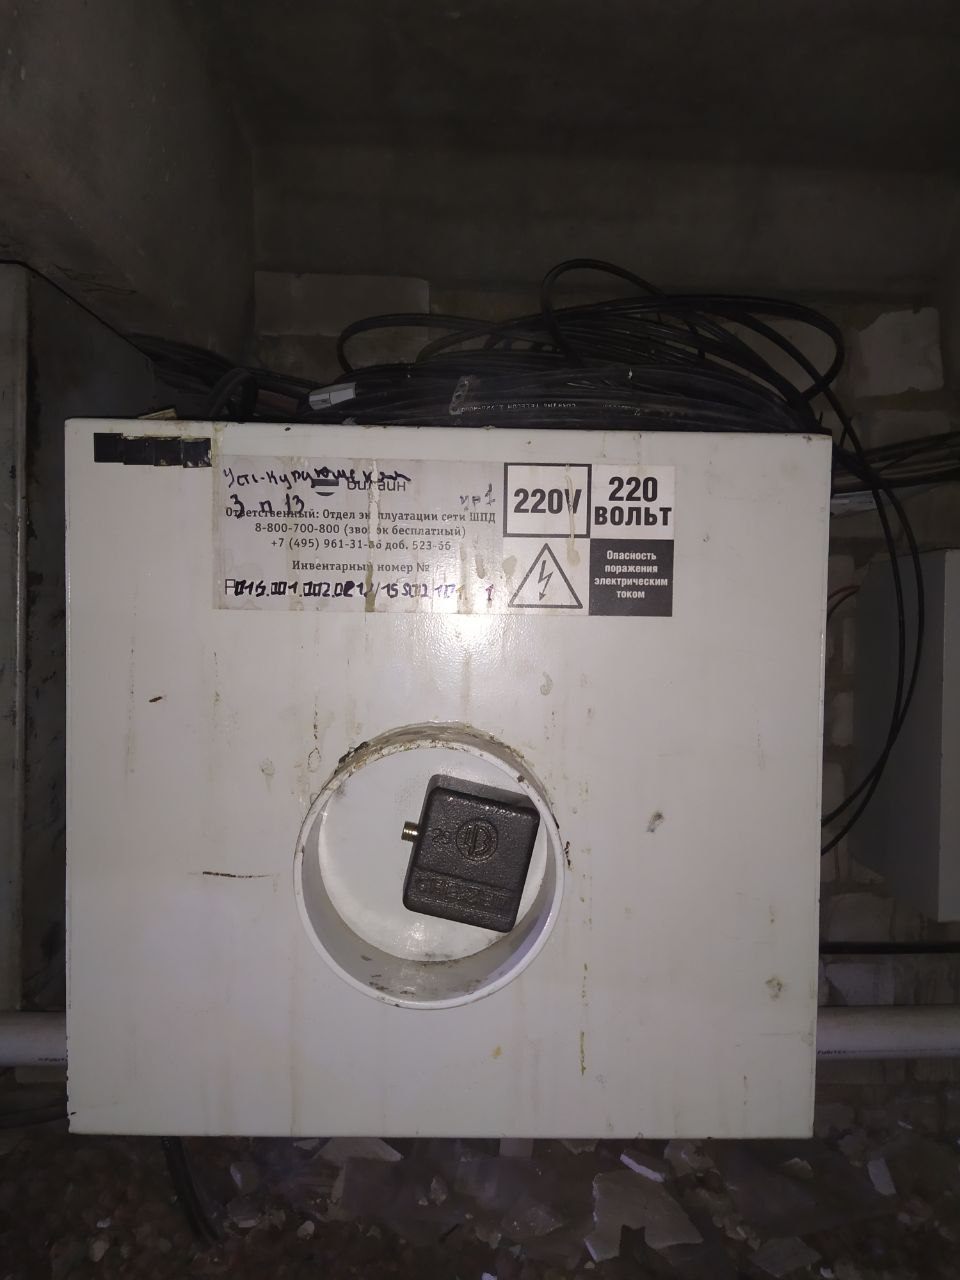shta-9: (48, 398, 838, 1151)
